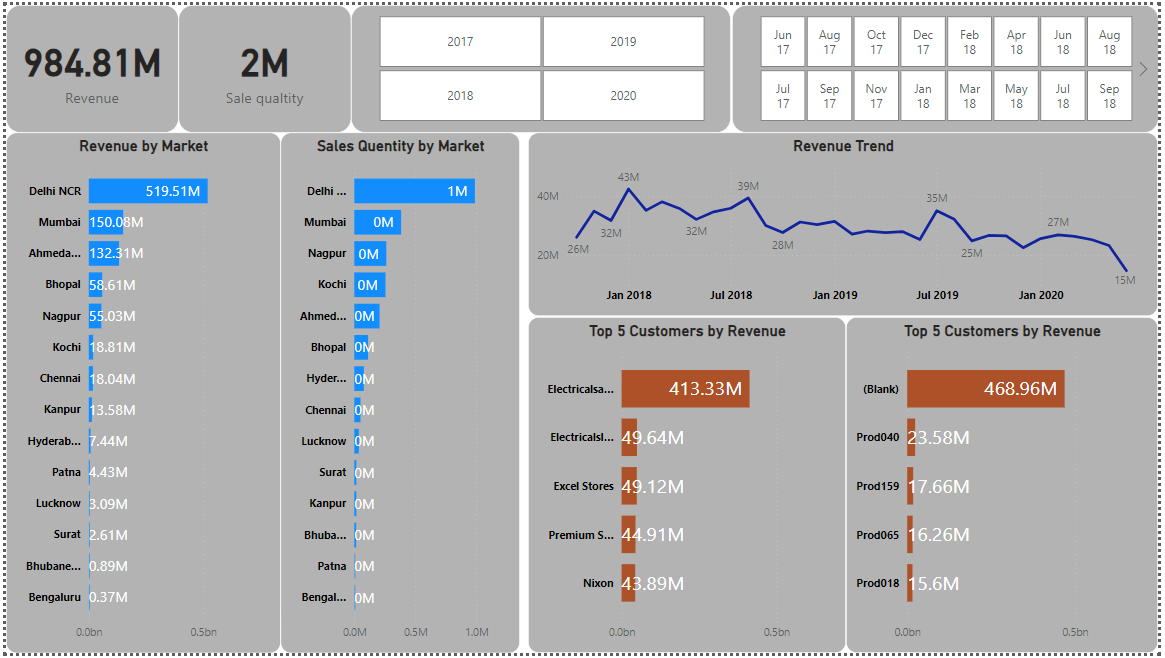

What the dashboard file says about the page in this screenshot:
{"tool":"powerbi","page":{"name":"Sales Dashboard","canvas":[1280,720],"ordinal":0},"visuals":[{"type":"card","fields":{"Values":["Base_measures.Revenue"]},"box":[0,0,192,142],"z":0},{"type":"card","fields":{"Values":["Base_measures.Sale qualtity"]},"box":[192,0,192,142],"z":1000},{"type":"barChart","title":"Revenue by Market","fields":{"Y":["Base_measures.Revenue"],"Category":["sales markets.markets_name"]},"box":[0,141.7,305,578.3],"z":2000},{"type":"barChart","title":"Sales Quentity by Market","fields":{"Y":["Base_measures.Sale qualtity"],"Category":["sales markets.markets_name"]},"box":[305,141.2,266.2,578.8],"z":3000},{"type":"slicer","fields":{"Values":["sales date.year"]},"box":[384,0,422,142],"z":4000},{"type":"slicer","fields":{"Values":["sales date.cy_date"]},"box":[806,0,474,142],"z":5000},{"type":"barChart","title":"Top 5 Customers by Revenue","fields":{"Y":["Base_measures.Revenue"],"Category":["sales customers.custmer_name"]},"box":[580,346.7,353.3,373.3],"z":6000},{"type":"barChart","title":"Top 5 Customers by Revenue","fields":{"Y":["Base_measures.Revenue"],"Category":["sales products.product_code"]},"box":[933.3,346.7,346.7,373.3],"z":7000},{"type":"lineChart","title":"Revenue Trend","fields":{"Y":["Base_measures.Revenue"],"Category":["sales date.cy_date.Variation.Date Hierarchy.Year","sales date.cy_date.Variation.Date Hierarchy.Quarter","sales date.cy_date.Variation.Date Hierarchy.Month","sales date.cy_date.Variation.Date Hierarchy.Day"]},"box":[580,142,700,204],"z":8000}]}

Visuals, with their boxes in screenshot pixels (x1, y1, x2, y2), scaled from the page's 1280x720 canvas onto the 1165x658 screenshot:
card - Base_measures.Revenue: pyautogui.locateOnScreen(0, 0, 175, 130)
card - Base_measures.Sale qualtity: pyautogui.locateOnScreen(175, 0, 350, 130)
"Revenue by Market" barChart: pyautogui.locateOnScreen(0, 129, 278, 657)
"Sales Quentity by Market" barChart: pyautogui.locateOnScreen(278, 129, 520, 657)
slicer - sales date.year: pyautogui.locateOnScreen(350, 0, 734, 130)
slicer - sales date.cy_date: pyautogui.locateOnScreen(734, 0, 1164, 130)
"Top 5 Customers by Revenue" barChart: pyautogui.locateOnScreen(528, 317, 849, 657)
"Top 5 Customers by Revenue" barChart: pyautogui.locateOnScreen(849, 317, 1164, 657)
"Revenue Trend" lineChart: pyautogui.locateOnScreen(528, 130, 1164, 316)
